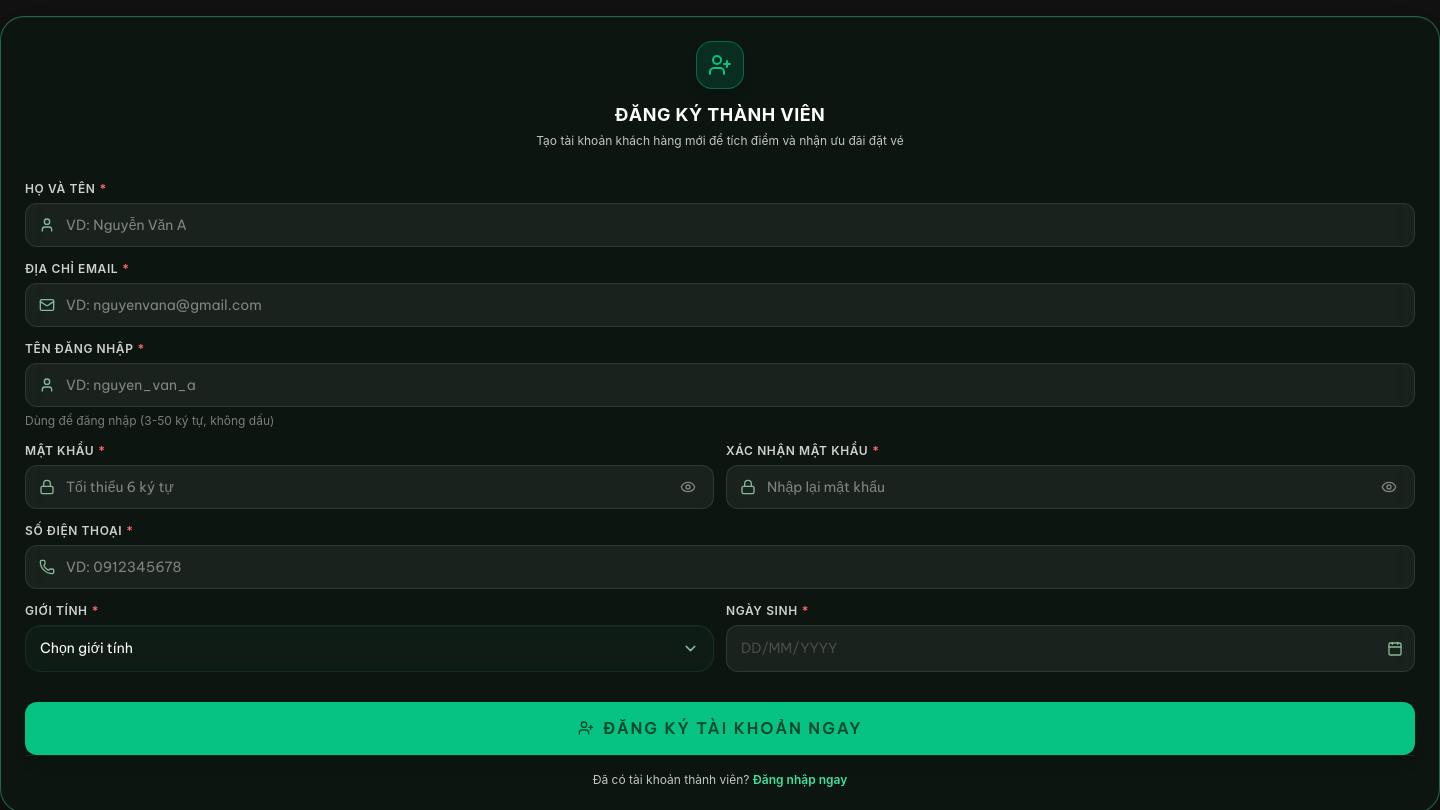
Test: RegisterPage › renders all required fields directly without collapsible toggle and validates required inputs
Expected: the field labelled "Họ và tên *" is shown, [25, 203, 1415, 247]
Expected: the field labelled "Địa chỉ Email *" is shown, [25, 283, 1415, 327]
Note: Click submit when empty
Click the button "Đăng ký tài khoản ngay" at x=720, y=728, box [25, 702, 1415, 755]
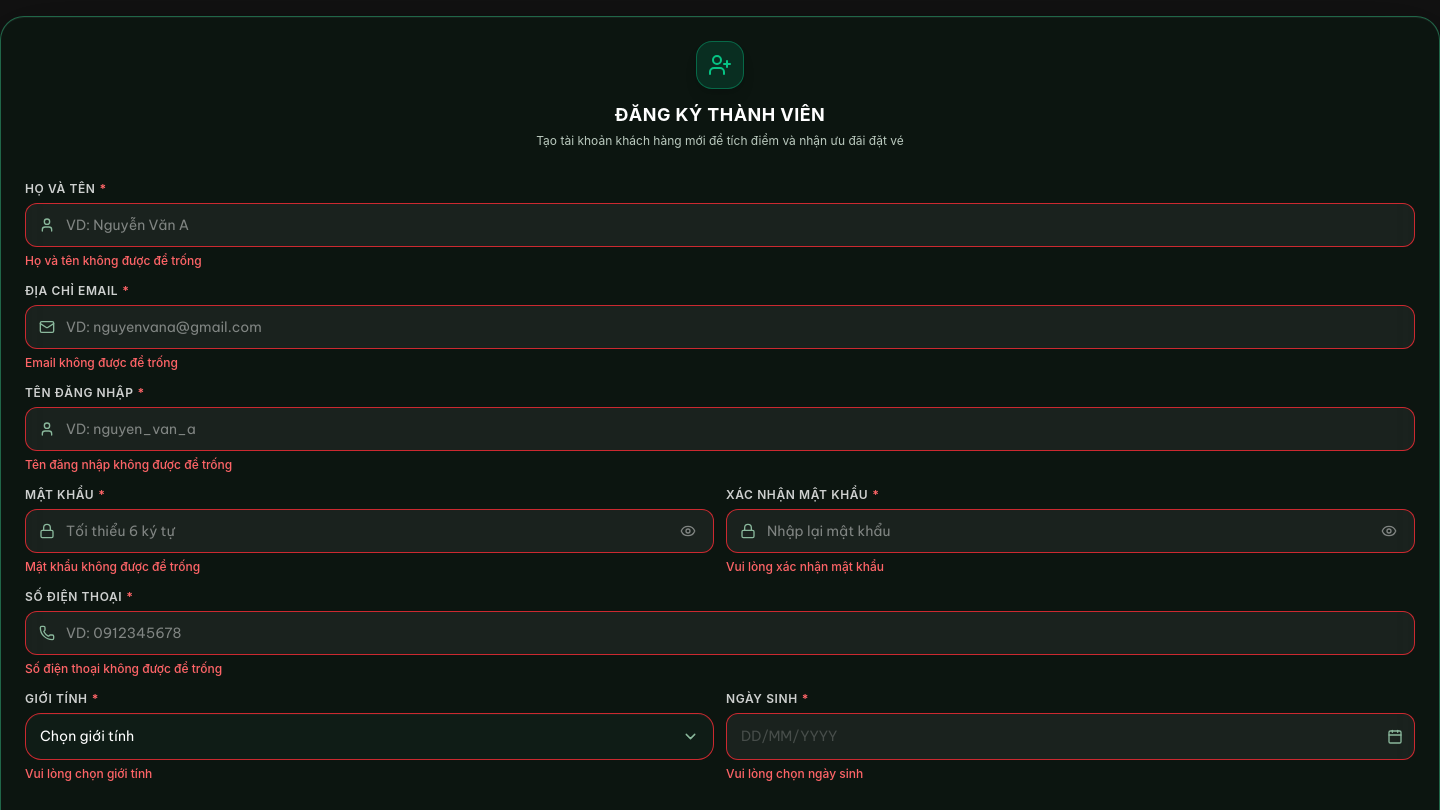
Expected: the text "Họ và tên không được để trống" is shown, [25, 253, 202, 268]
Expected: the text "Email không được để trống" is shown, [25, 355, 178, 370]
Expected: the text "Tên đăng nhập không được để trống" is shown, [25, 457, 232, 472]
